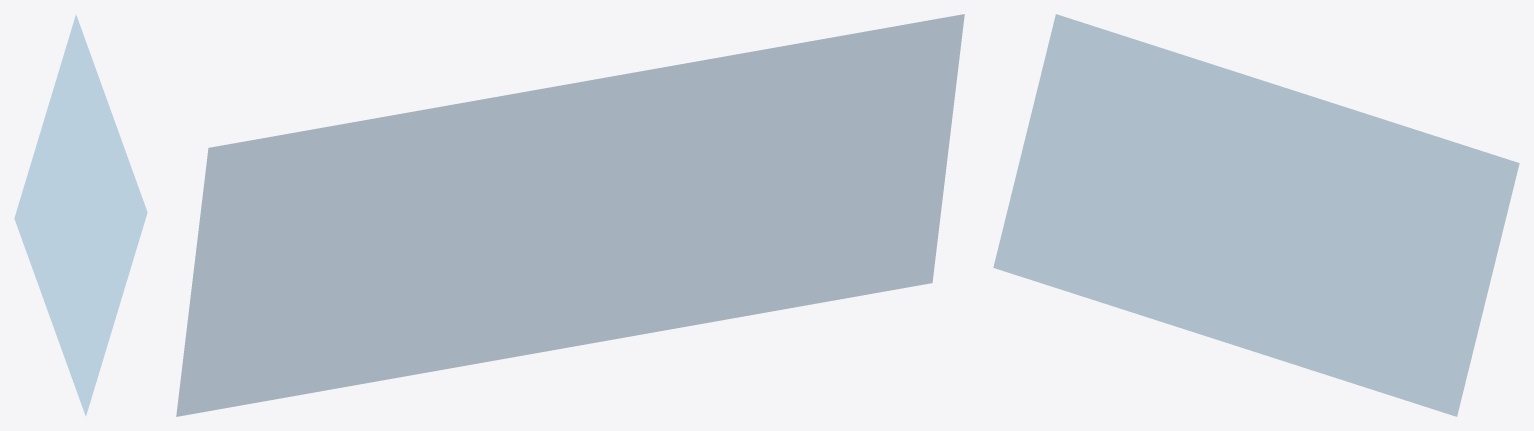
The picture shows the model from 3 angles, left to right: view 1: azimuth 30°, elevation 25°; view 2: azimuth 150°, elevation 25°; view 3: azimuth 270°, elevation 25°; orthographic projection. The views are drawn at different scales.
Bounding box in the file's own units: 8.96 × 5.41 × 11.35.
